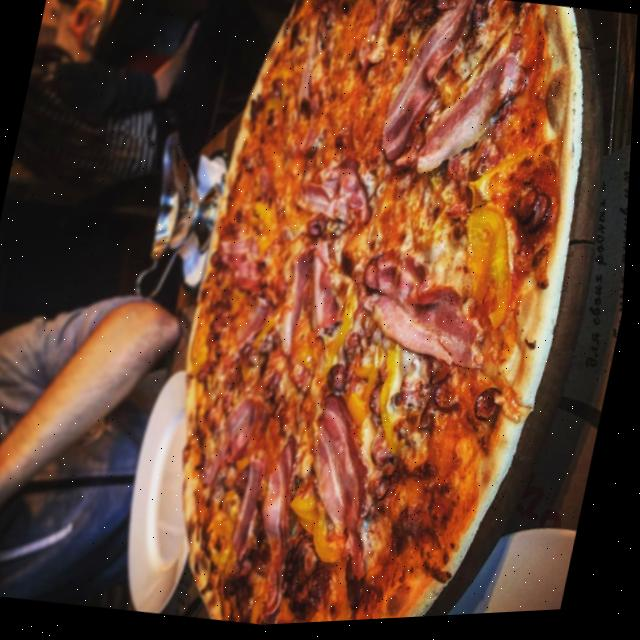black_olives: (365, 434, 413, 520), (514, 189, 557, 241), (364, 251, 402, 299), (431, 377, 468, 418), (475, 390, 506, 428), (302, 541, 329, 580), (329, 364, 355, 398), (340, 252, 361, 279)
pizza: (140, 0, 622, 633)
